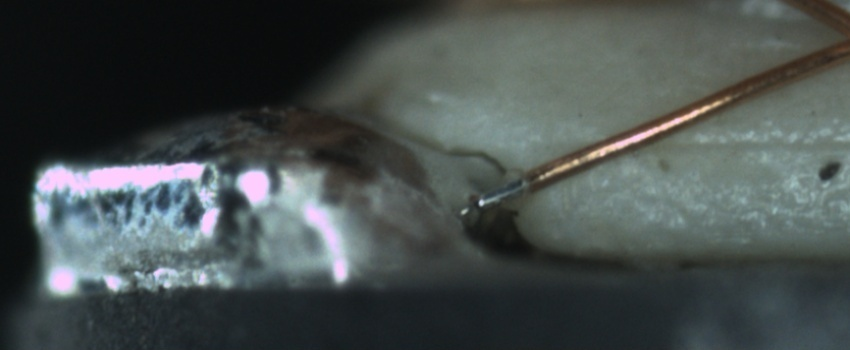DL: (611, 111, 848, 178)
TS: (471, 174, 531, 211)
